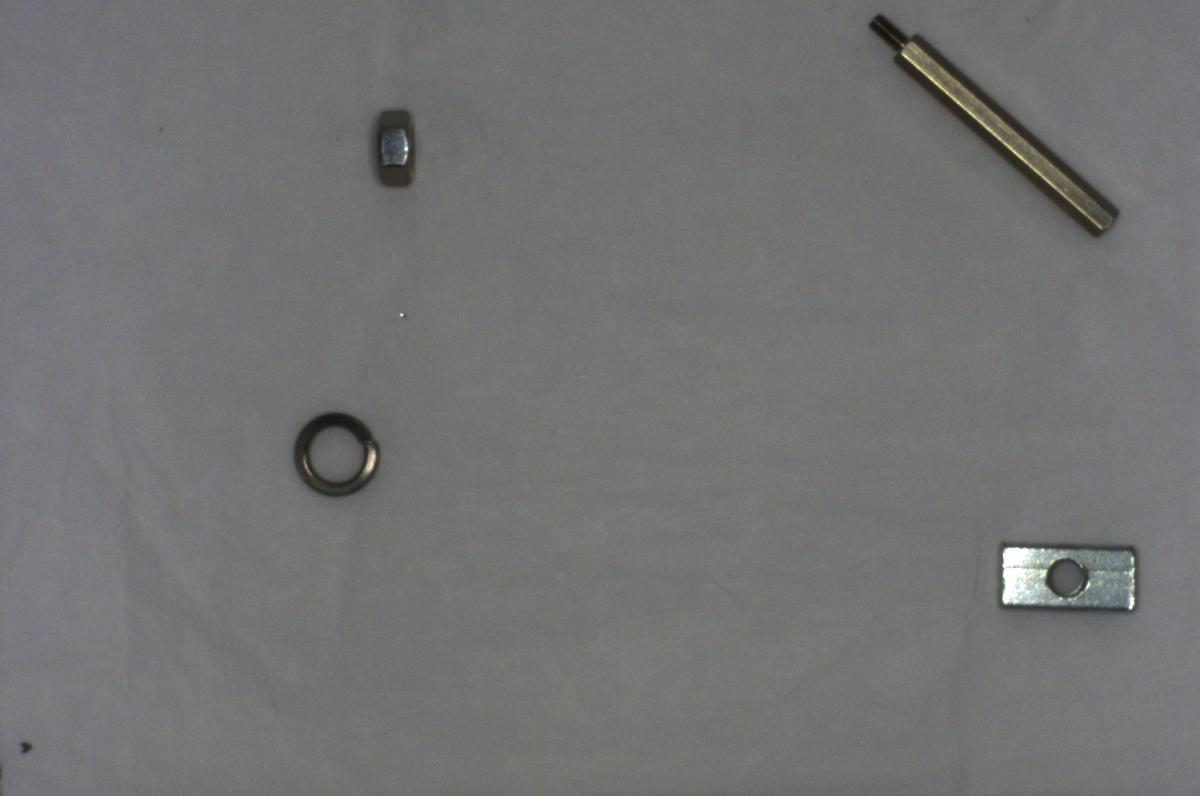Hexagon nut: (364, 102, 422, 194)
Hexagonal steel column: (868, 7, 1125, 239)
Rectangular nut: (984, 532, 1150, 632)
Spring washer: (286, 414, 385, 501)
